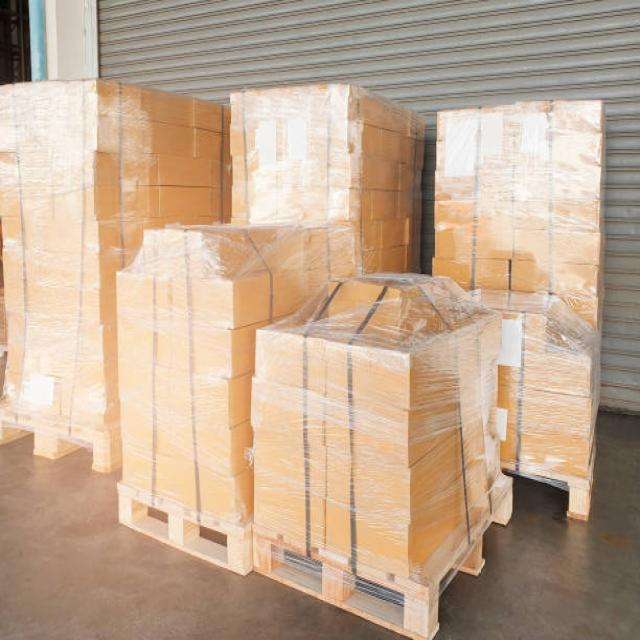Wooden-Pallets: (256, 527, 432, 640), (109, 476, 251, 593)
